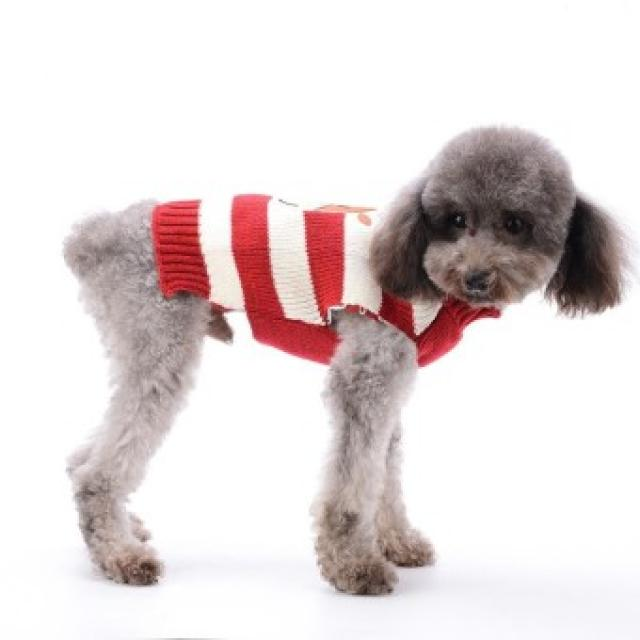cloth: (155, 195, 500, 366)
